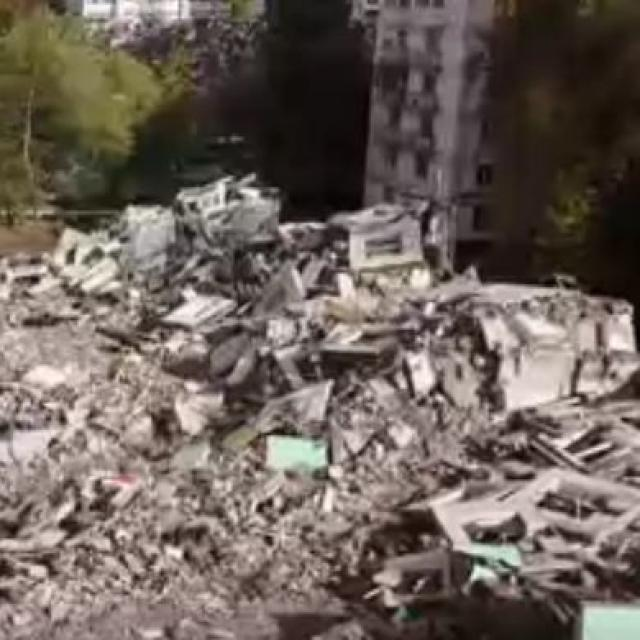collapsed_building: (0, 219, 610, 638)
